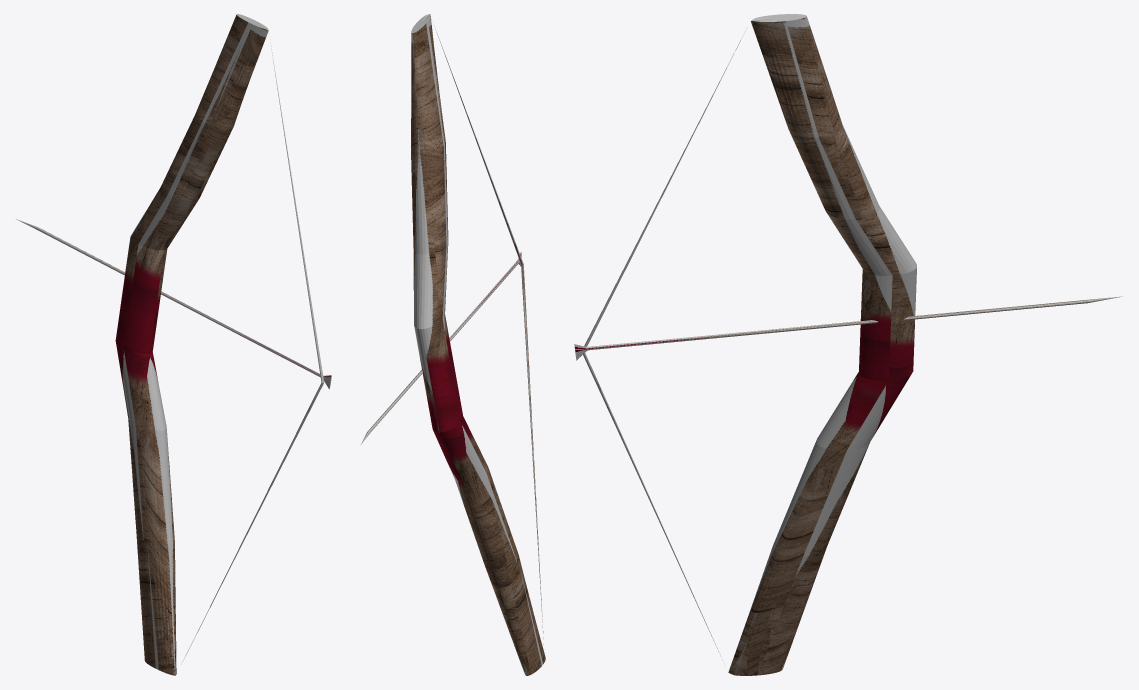
The model's file is Arco7.obj.
The picture shows the model from 3 angles, left to right: view 1: azimuth 30°, elevation 25°; view 2: azimuth 150°, elevation 25°; view 3: azimuth 270°, elevation 25°; orthographic projection. The views are drawn at different scales.
Visible parts, largest first — view 1: Cilindro; view 2: Cilindro; view 3: Cilindro.
Part boxes in pixels (bbox=[...]): Cilindro: bbox=[16, 14, 331, 675]; Cilindro: bbox=[361, 14, 545, 675]; Cilindro: bbox=[574, 14, 1122, 675].
Bounding box in the file's own units: 0.1886 × 0.9705 × 0.6791.
Materials: 1 (1 with a texture image).
